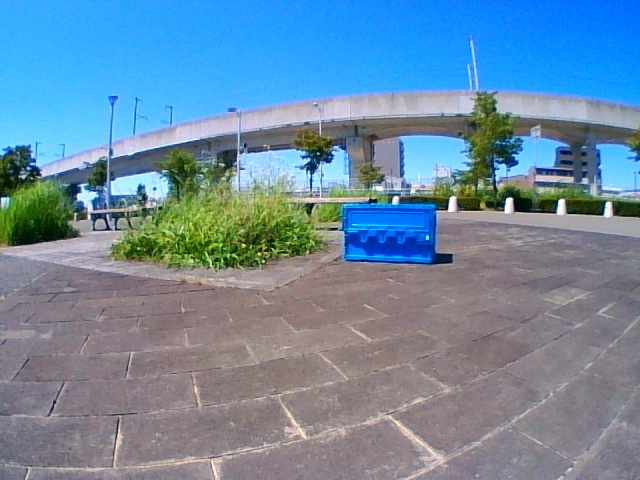blue_box: (345, 204, 433, 261)
